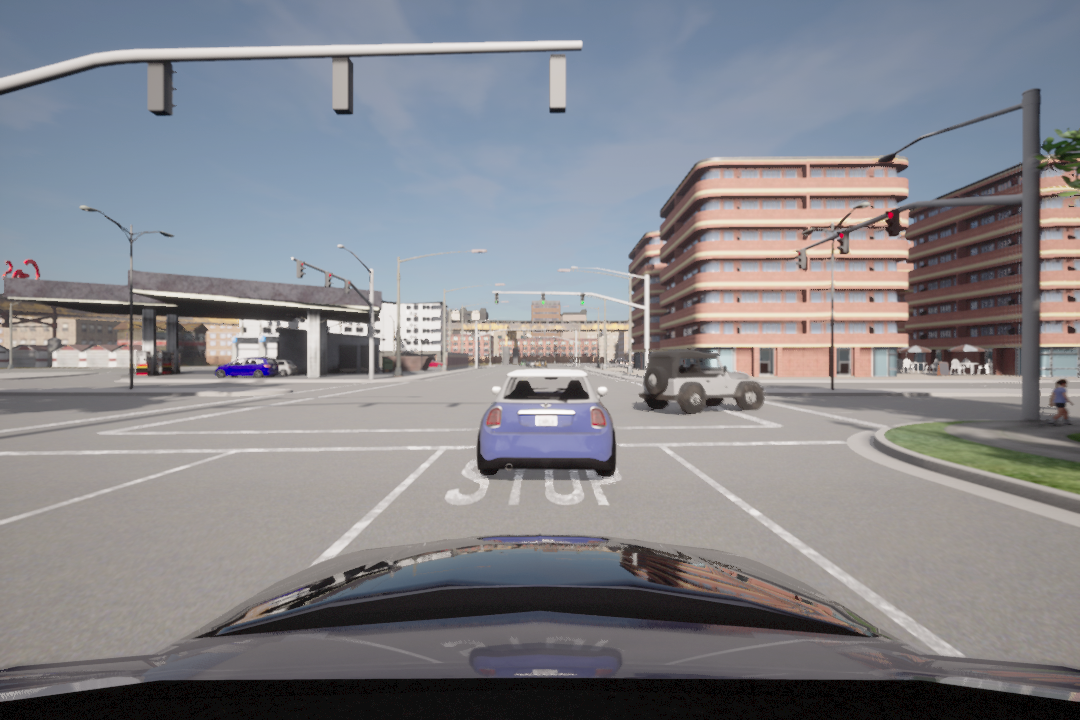TrafficLight: (836, 227, 853, 259), (884, 207, 901, 237), (795, 247, 811, 273), (293, 257, 307, 282), (324, 268, 336, 294), (577, 291, 588, 311), (344, 277, 353, 296), (539, 291, 547, 307), (492, 291, 500, 306)
